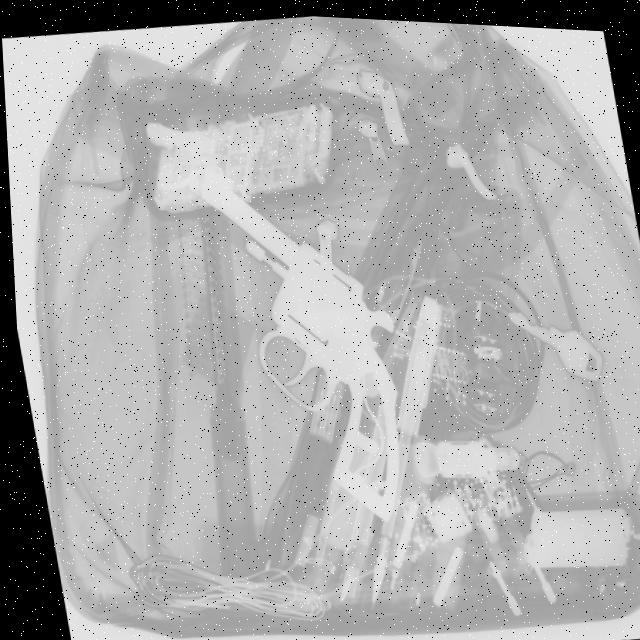knife: (261, 272, 516, 630)
pistol: (192, 149, 411, 530)
